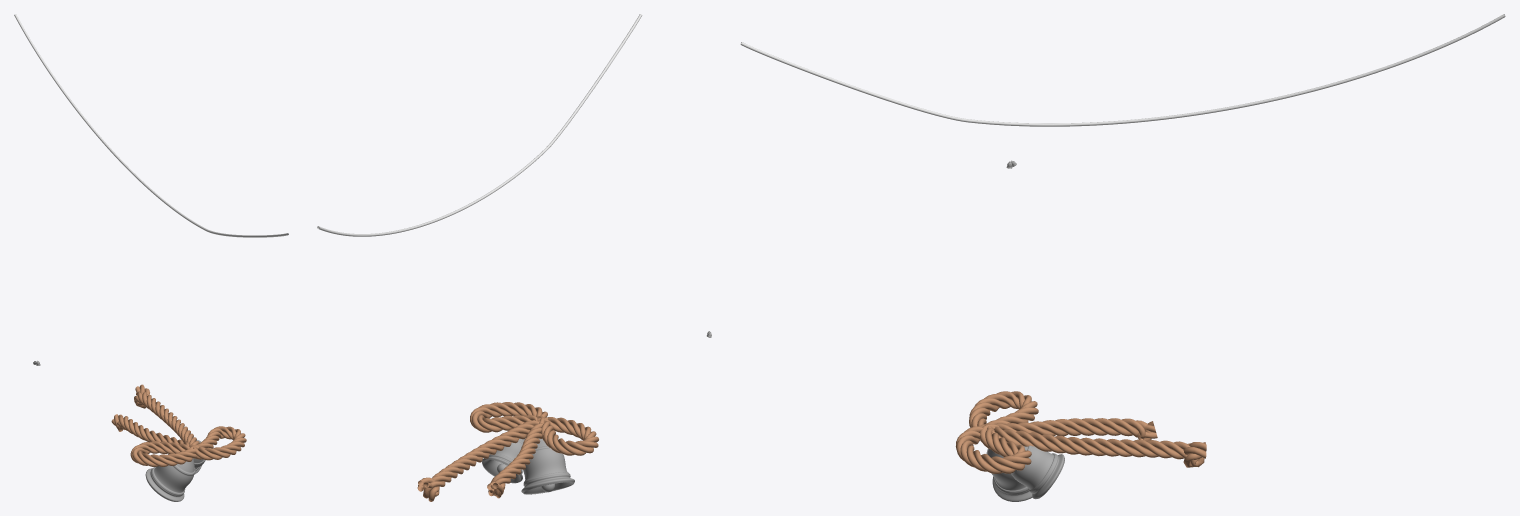
File: string with bells.fbx
3 renders of one model, left to right at view 1: azimuth 30°, elevation 25°; view 2: azimuth 150°, elevation 25°; view 3: azimuth 270°, elevation 25°, orthographic. The views are drawn at different scales.
Visible parts, largest first — view 1: Rope, Bell 2, BézierCurve.002; view 2: Rope, Bell 2, BézierCurve.002; view 3: Rope, BézierCurve.002, Bell 2.
Part boxes in pixels (left/top/right/bottom): Rope: left=111, top=384, right=246, bottom=466; Bell 2: left=145, top=440, right=205, bottom=501; BézierCurve.002: left=14, top=14, right=288, bottom=237; Rope: left=417, top=402, right=598, bottom=501; Bell 2: left=482, top=438, right=574, bottom=494; BézierCurve.002: left=317, top=14, right=642, bottom=236; Rope: left=955, top=391, right=1206, bottom=473; BézierCurve.002: left=740, top=14, right=1505, bottom=126; Bell 2: left=986, top=444, right=1064, bottom=501.
Size of the model in its own units: 400 by 656 by 921.
